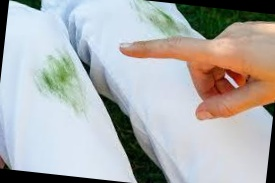earth: (40, 57, 74, 95), (151, 12, 180, 34)
